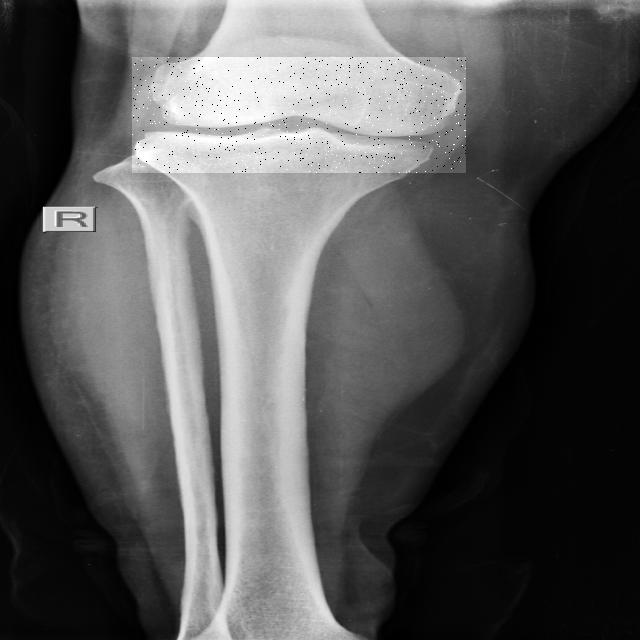normal: (132, 57, 466, 173)
